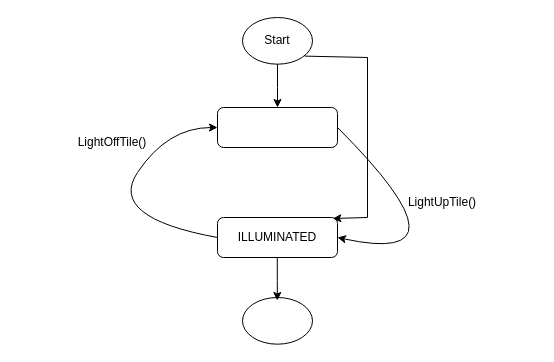
Image size: 554x362. Some labels were removed from this diagram. Here are the shapes that lost their labels. From the top down, the box of each, then its label:
(216, 106, 338, 148): DARK
(242, 296, 312, 344): End
